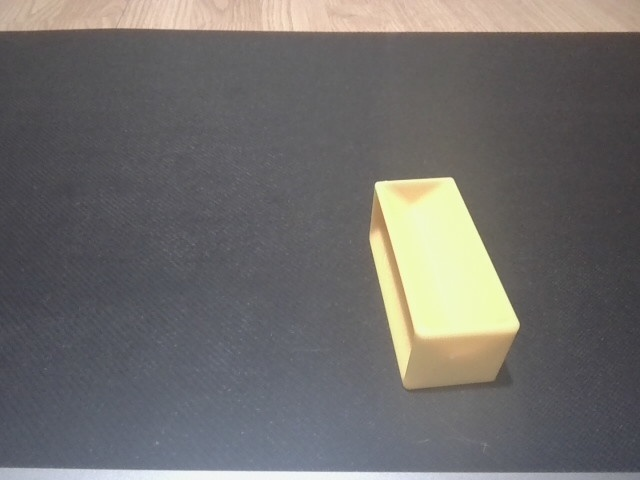YellowSample: (364, 174, 524, 393)
